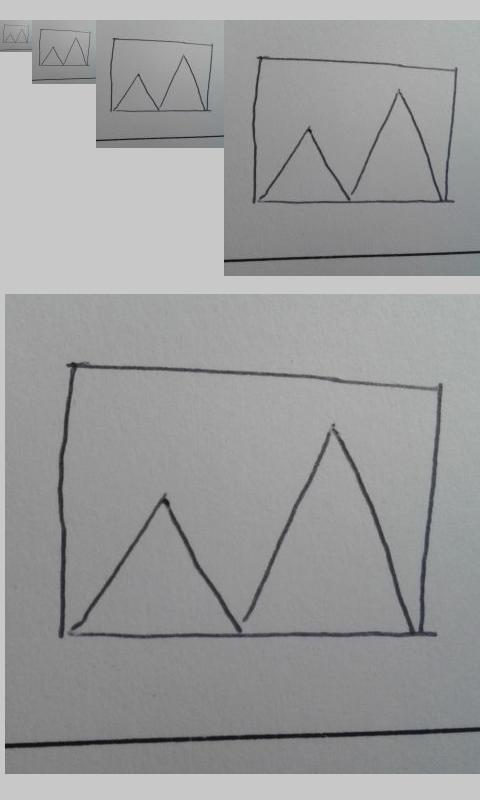image_view: (46, 356, 444, 646), (250, 50, 459, 213), (109, 37, 213, 113), (38, 28, 91, 67), (2, 24, 29, 44)
